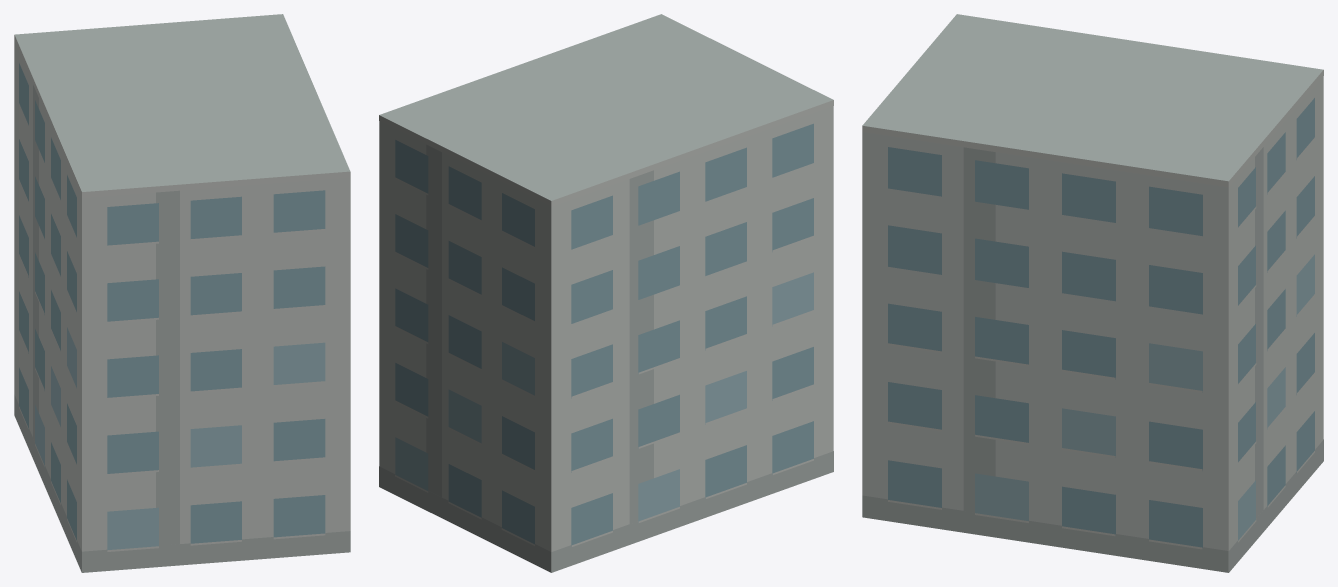
The model's file is residential-e545433a-c8b8-462c-82f6-7a73510b1440.glb.
3 views of the same model, side by side, from view 1: azimuth 30°, elevation 25°; view 2: azimuth 150°, elevation 25°; view 3: azimuth 270°, elevation 25° (orthographic). The views are drawn at different scales.
Parts seen in each view (by area): view 1: residential-e545433a-c8b8-462c-82f6-7a73510b1440.tmp; view 2: residential-e545433a-c8b8-462c-82f6-7a73510b1440.tmp; view 3: residential-e545433a-c8b8-462c-82f6-7a73510b1440.tmp.
Boxes of the visible parts, x1,y1,x2,y2 form: residential-e545433a-c8b8-462c-82f6-7a73510b1440.tmp: (14,14,350,572); residential-e545433a-c8b8-462c-82f6-7a73510b1440.tmp: (379,14,833,572); residential-e545433a-c8b8-462c-82f6-7a73510b1440.tmp: (862,14,1323,572).
Bounding box in the file's own units: 13.98 × 15.25 × 16.3.
